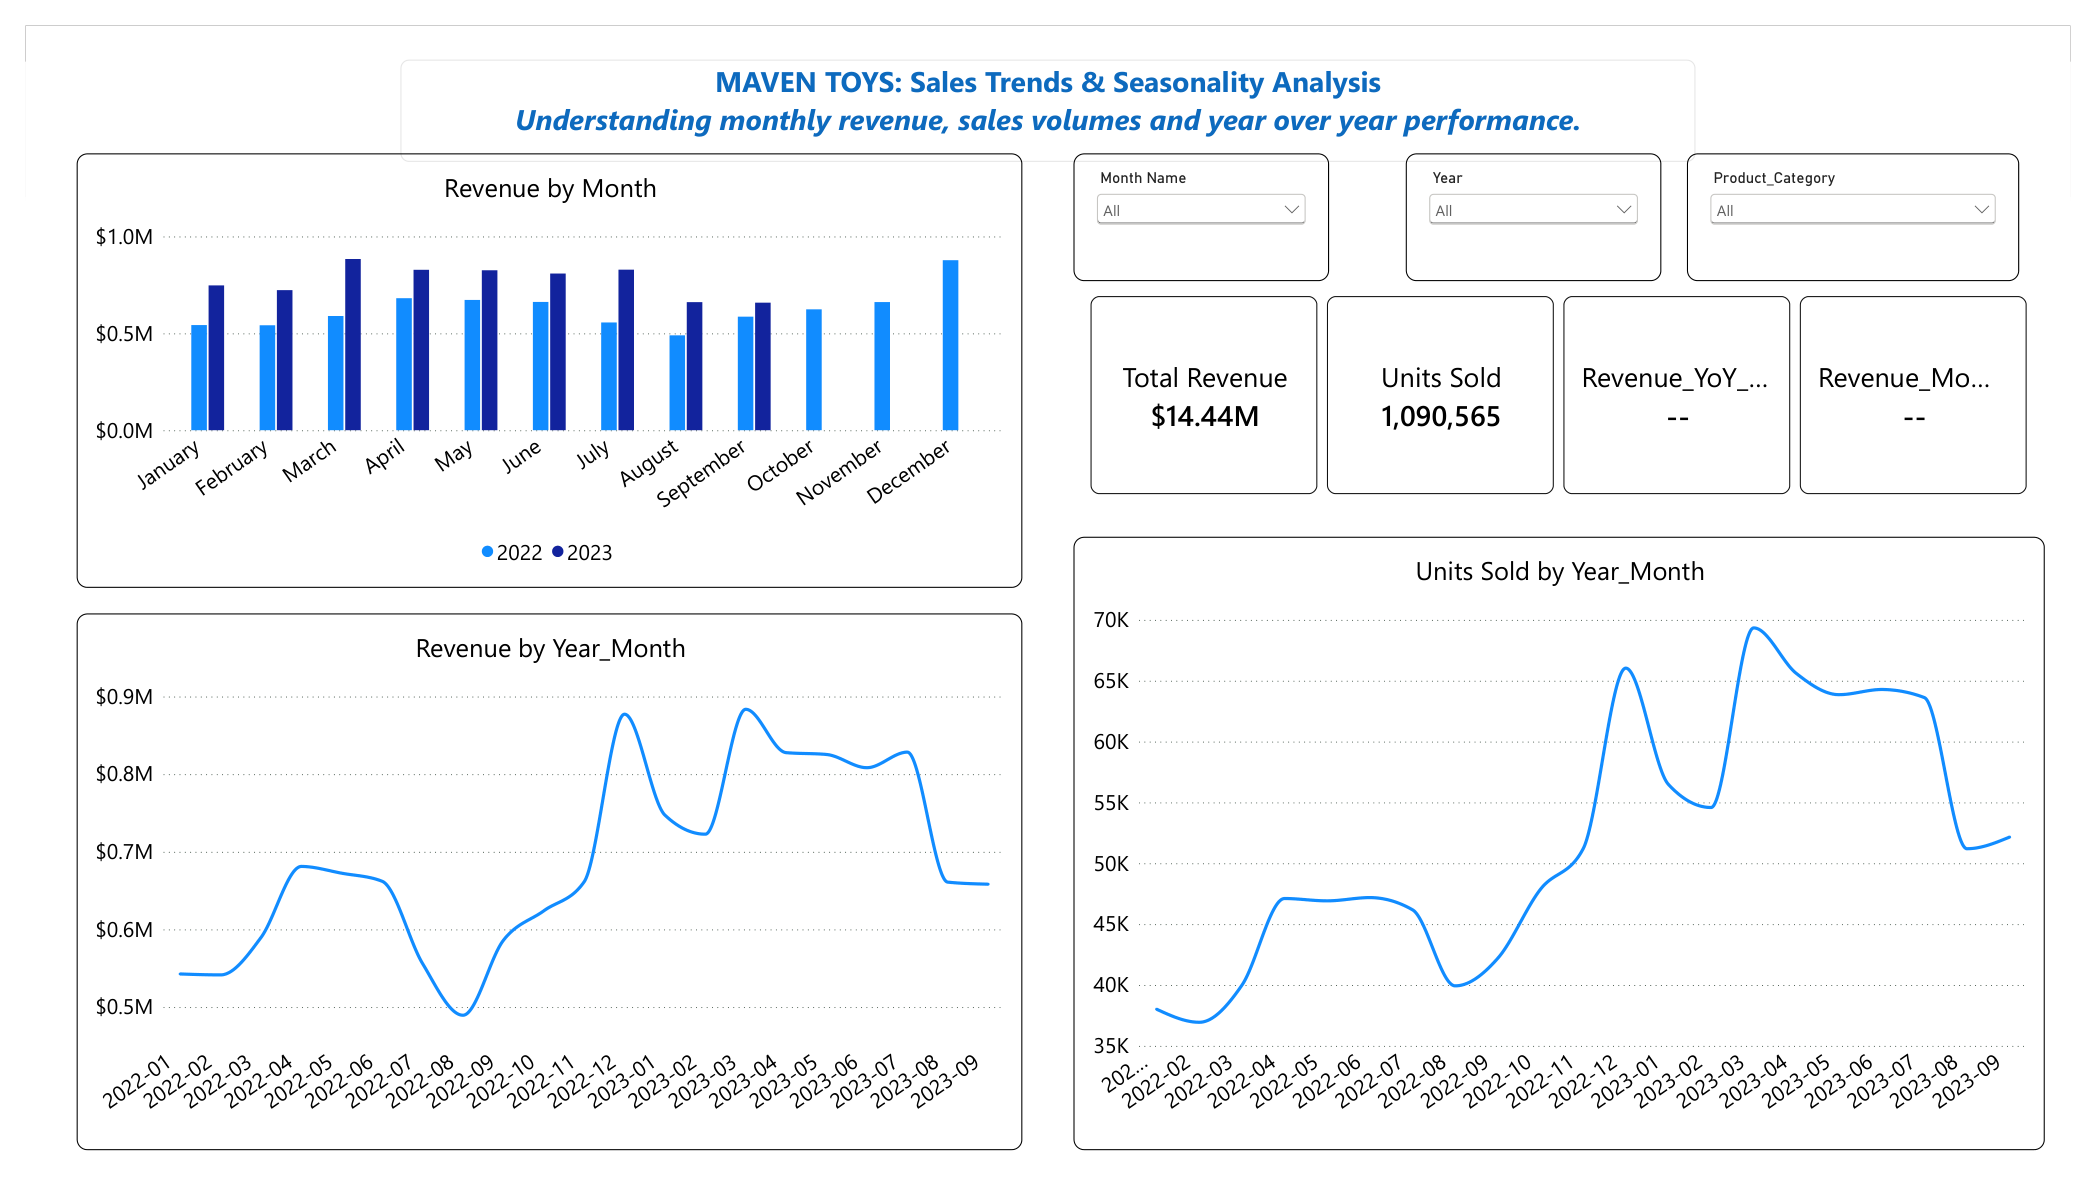

Layout of this report page (visuals, bound fields, positions):
{"tool":"powerbi","page":{"name":"Sales Trend & Seasonality Analysis","canvas":[1920,1080],"ordinal":1},"visuals":[{"type":"textbox","box":[352,32,1216,96],"z":7000},{"type":"lineChart","fields":{"Category":["Date.Year_Month"],"Y":["Measure.Total_Unit_Sold"]},"box":[984,480,912,576],"z":7001},{"type":"lineChart","title":"Revenue by Year_Month","fields":{"Category":["Date.Year_Month"],"Y":["Measure.Total_Revenue"]},"box":[48,552,888,504],"z":7002},{"type":"cardVisual","fields":{"Data":["Measure.Total_Revenue","Measure.Total_Unit_Sold","Measure.Revenue_YoY_% Card","Measure.Revenue_MoM_% Card"]},"box":[984,240,912,216],"z":7003},{"type":"clusteredColumnChart","title":"Revenue by Month","fields":{"Category":["Date.Month Name"],"Series":["Date.Year"],"Y":["Measure.Total_Revenue"]},"box":[48,120,888,408],"z":7004},{"type":"slicer","fields":{"Values":["products.Product_Category"]},"box":[1560,120,312,120],"z":7005},{"type":"slicer","fields":{"Values":["Date.Year"]},"box":[1296,120,240,120],"z":7006},{"type":"slicer","fields":{"Values":["Date.Month Name"]},"box":[984,120,240,120],"z":7007}]}

Visuals, with their boxes in screenshot pixels (x1, y1, x2, y2), scaled from the page's 1920x1080 canvas onto the 2096x1202 screenshot:
textbox: (x1=384, y1=36, x2=1712, y2=142)
lineChart - Date.Year_Month x Measure.Total_Unit_Sold: (x1=1074, y1=534, x2=2070, y2=1175)
"Revenue by Year_Month" lineChart: (x1=52, y1=614, x2=1022, y2=1175)
cardVisual - Measure.Total_Revenue x Measure.Total_Unit_Sold: (x1=1074, y1=267, x2=2070, y2=508)
"Revenue by Month" clusteredColumnChart: (x1=52, y1=134, x2=1022, y2=588)
slicer - products.Product_Category: (x1=1703, y1=134, x2=2044, y2=267)
slicer - Date.Year: (x1=1415, y1=134, x2=1677, y2=267)
slicer - Date.Month Name: (x1=1074, y1=134, x2=1336, y2=267)
